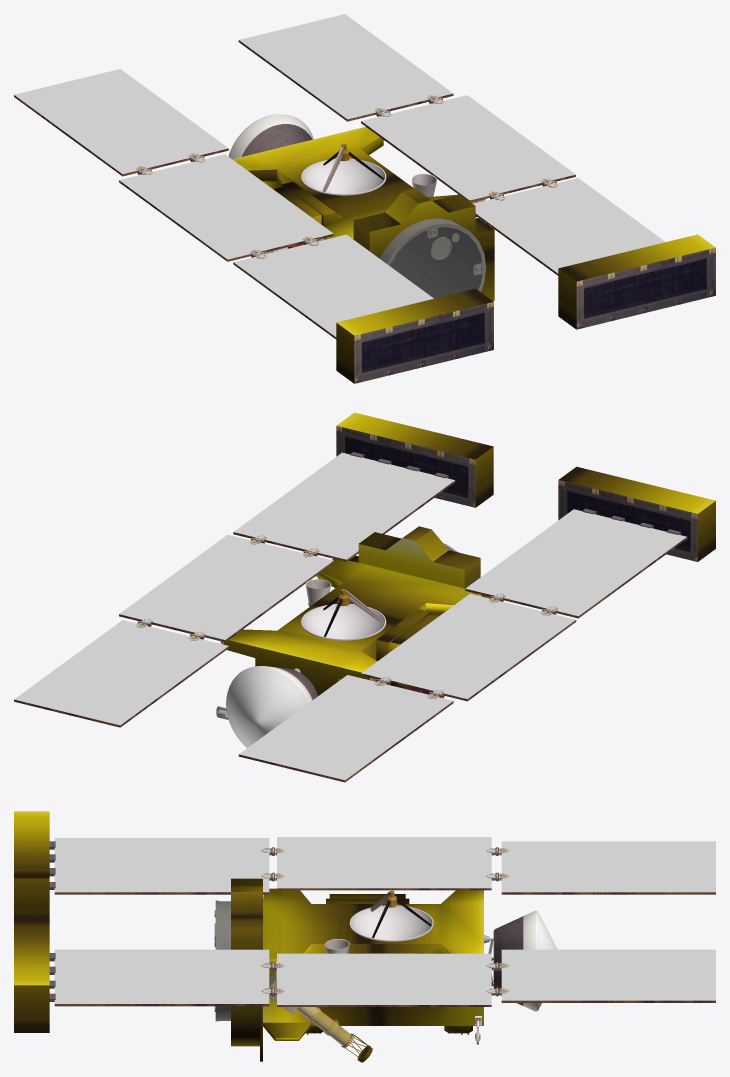
The model's file is stardust.glb.
3 views of the same model, one above another, from view 1: azimuth 30°, elevation 25°; view 2: azimuth 150°, elevation 25°; view 3: azimuth 270°, elevation 25° (orthographic).
Parts seen in each view (by area): view 1: shiny_panels, Stardust_tex_01, gold_foil2, gold_foil, foil_silver, Stardust_tex_03, Stardust_tex_02, Stardust_tex_01_c, Stardust_tex_01_c2; view 2: shiny_panels, gold_foil, Stardust_tex_01, gold_foil2, Stardust_tex_01_c2, Stardust_tex_03; view 3: shiny_panels, gold_foil, gold_foil2, Stardust_tex_01, Stardust_tex_03, Stardust_tex_02, Stardust_tex_01_c, Stardust_tex_01_c2.
Part boxes in pixels (left/top/right/bottom): shiny_panels: left=14, top=14, right=665, bottom=336; Stardust_tex_01: left=14, top=40, right=715, bottom=383; gold_foil2: left=273, top=182, right=715, bottom=383; gold_foil: left=232, top=126, right=494, bottom=301; foil_silver: left=389, top=227, right=481, bottom=298; Stardust_tex_03: left=301, top=144, right=386, bottom=195; Stardust_tex_02: left=288, top=218, right=486, bottom=291; Stardust_tex_01_c: left=242, top=124, right=312, bottom=156; Stardust_tex_01_c2: left=228, top=114, right=313, bottom=159; shiny_panels: left=14, top=452, right=686, bottom=780; gold_foil: left=224, top=538, right=481, bottom=695; Stardust_tex_01: left=14, top=426, right=697, bottom=782; gold_foil2: left=336, top=412, right=715, bottom=660; Stardust_tex_01_c2: left=226, top=666, right=312, bottom=747; Stardust_tex_03: left=301, top=589, right=386, bottom=640; shiny_panels: left=54, top=837, right=715, bottom=1004; gold_foil: left=263, top=888, right=483, bottom=1040; gold_foil2: left=14, top=811, right=472, bottom=1062; Stardust_tex_01: left=49, top=841, right=715, bottom=1057; Stardust_tex_03: left=349, top=890, right=433, bottom=941; Stardust_tex_02: left=214, top=900, right=493, bottom=1048; Stardust_tex_01_c: left=493, top=916, right=523, bottom=1005; Stardust_tex_01_c2: left=523, top=910, right=557, bottom=1011.
Size of the model in its own units: 2.94 by 1.17 by 5.01.
Materials: 6 (5 with a texture image).
